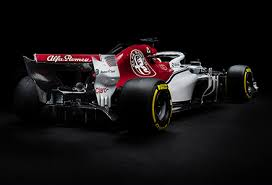f1_car: (20, 38, 267, 139)
